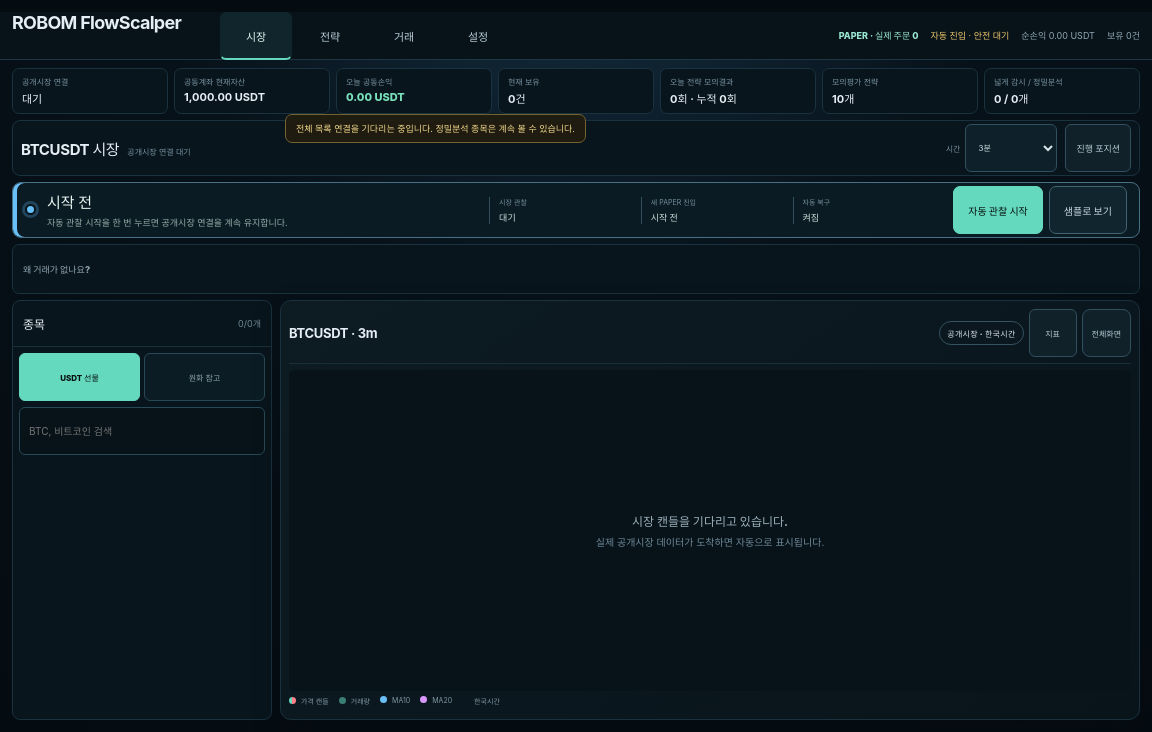
it: recovers the button and shows Korean detail after HTTP 500
Click the button "자동 관찰 시작" at point(998, 210), box 953,186 -> 1043,234
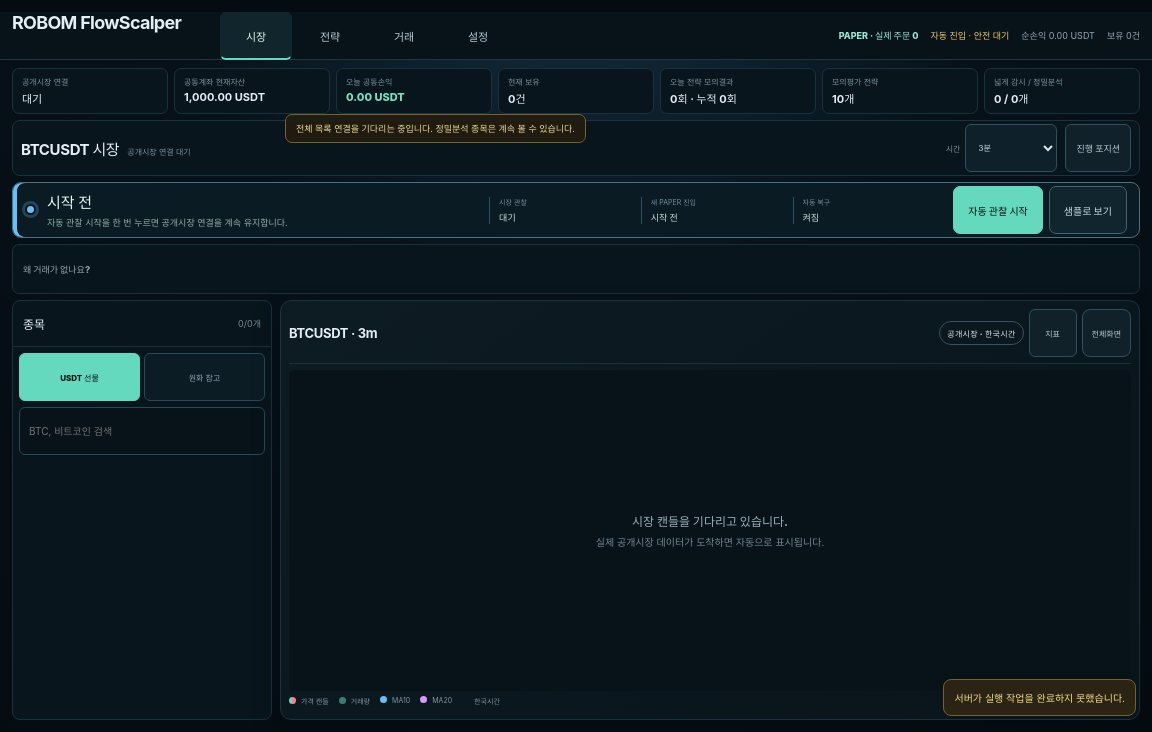
expect the message "서버가 실행 작업을 완료하지 못했습니다." is shown: met, box 944,679 -> 1136,716
